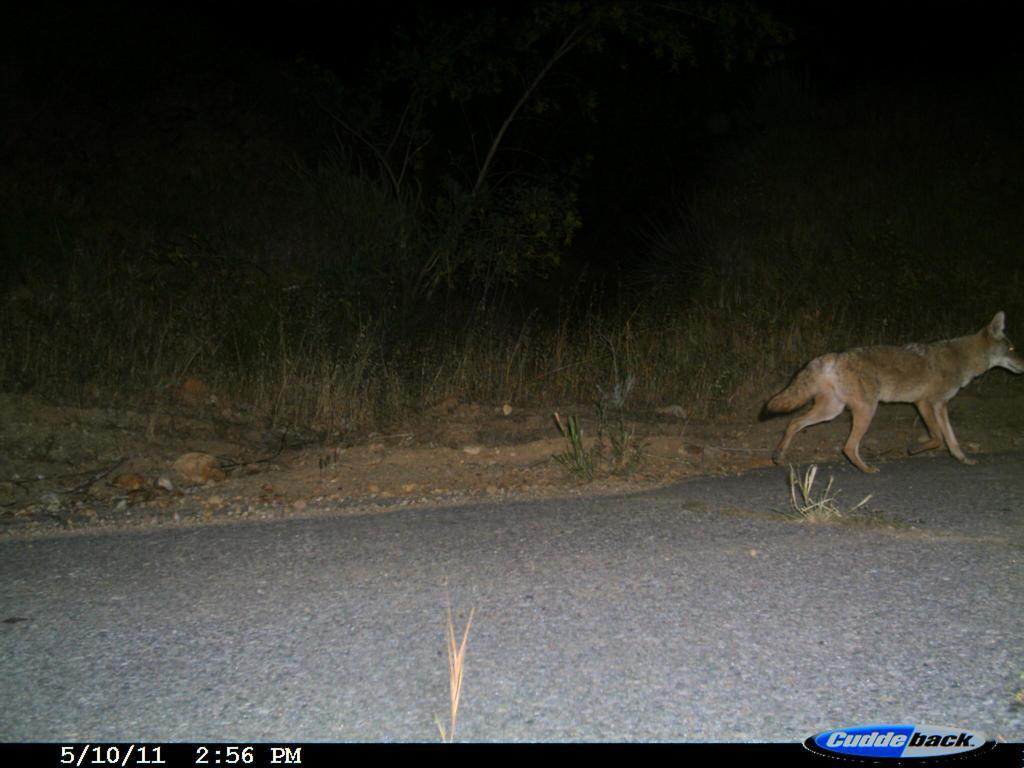coyote: (747, 294, 1019, 495)
